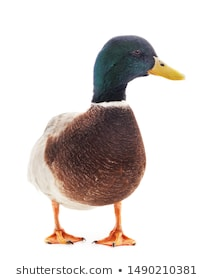duck: (21, 25, 193, 251)
